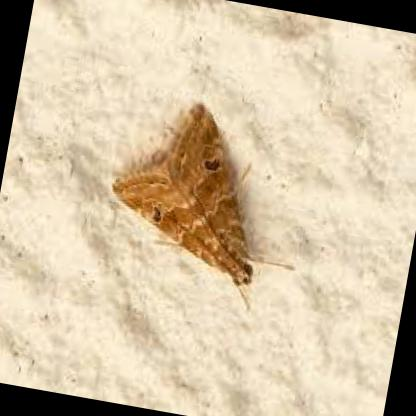Hellula undalis: (99, 95, 301, 324)
